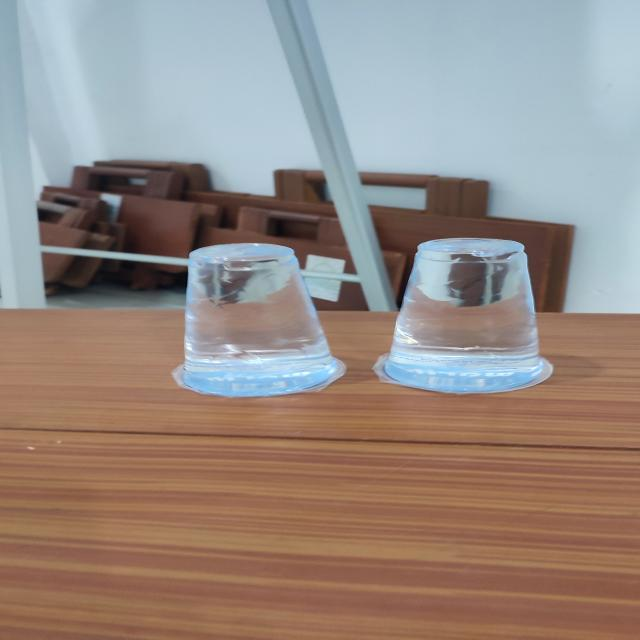air gelas: (159, 241, 352, 403), (371, 233, 561, 392)
